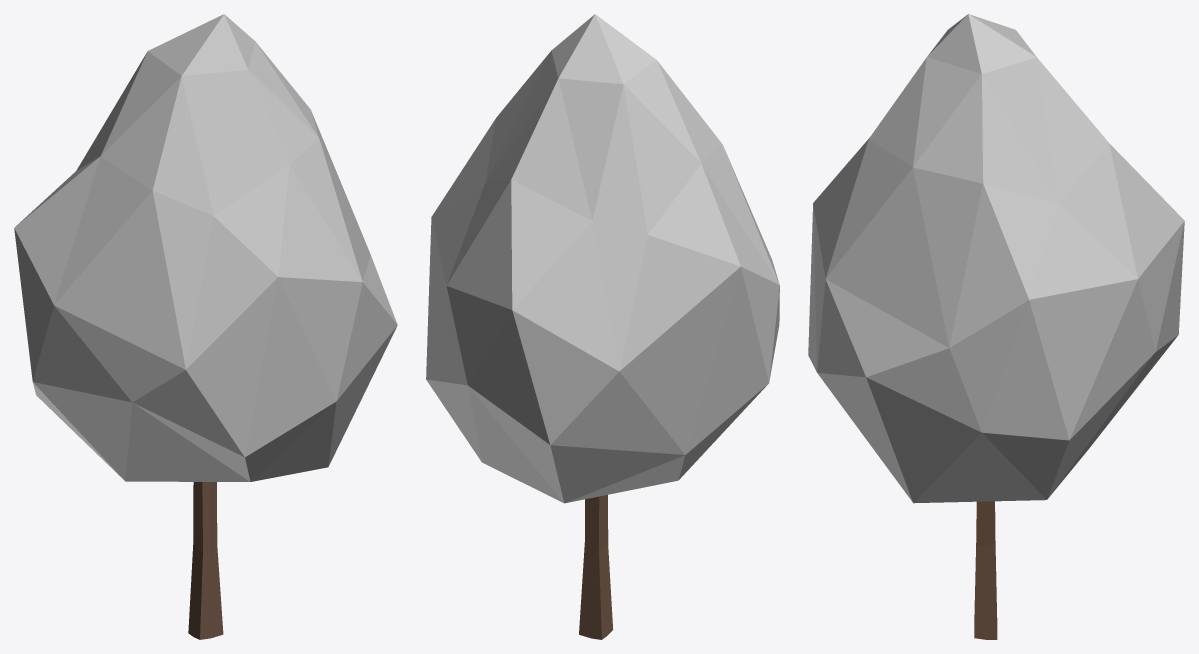
The model's file is Tree_5_White.fbx.
The picture shows the model from 3 angles, left to right: view 1: azimuth 30°, elevation 25°; view 2: azimuth 150°, elevation 25°; view 3: azimuth 270°, elevation 25°; orthographic projection. The views are drawn at different scales.
Visible parts, largest first — view 1: Tree_5_White_Part_1, Tree_5_White_Part_2; view 2: Tree_5_White_Part_1, Tree_5_White_Part_2; view 3: Tree_5_White_Part_1, Tree_5_White_Part_2.
Part boxes in pixels (<box>): Tree_5_White_Part_1: <box>14,14,397,481</box>; Tree_5_White_Part_2: <box>188,482,223,639</box>; Tree_5_White_Part_1: <box>426,14,779,503</box>; Tree_5_White_Part_2: <box>579,495,613,639</box>; Tree_5_White_Part_1: <box>808,14,1184,503</box>; Tree_5_White_Part_2: <box>974,501,997,639</box>.
Bounding box in the file's own units: 437 × 795 × 434.
